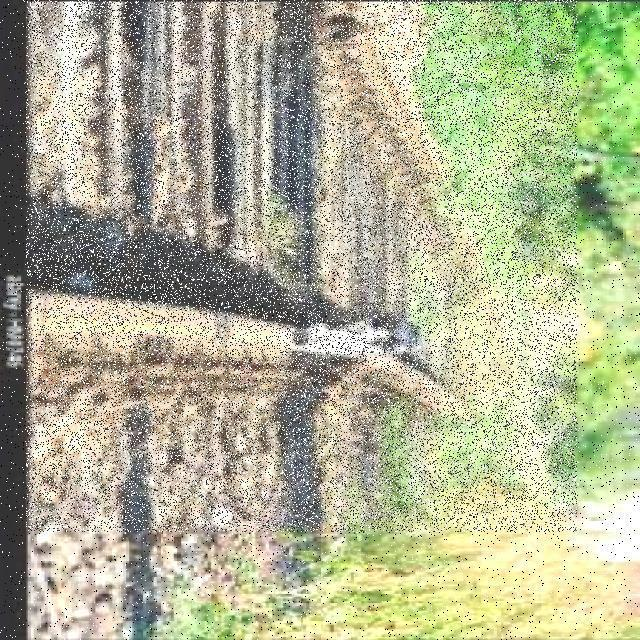rail: (28, 1, 578, 533)
